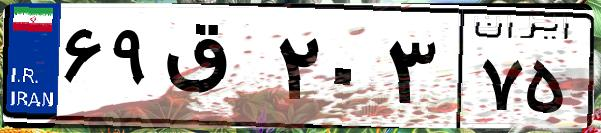0: (330, 28, 385, 110)
2: (270, 28, 330, 110)
3: (385, 28, 445, 110)
5: (525, 38, 570, 115)
6: (57, 26, 110, 100)
7: (475, 38, 525, 113)
9: (110, 28, 158, 98)
ق: (158, 20, 270, 120)
